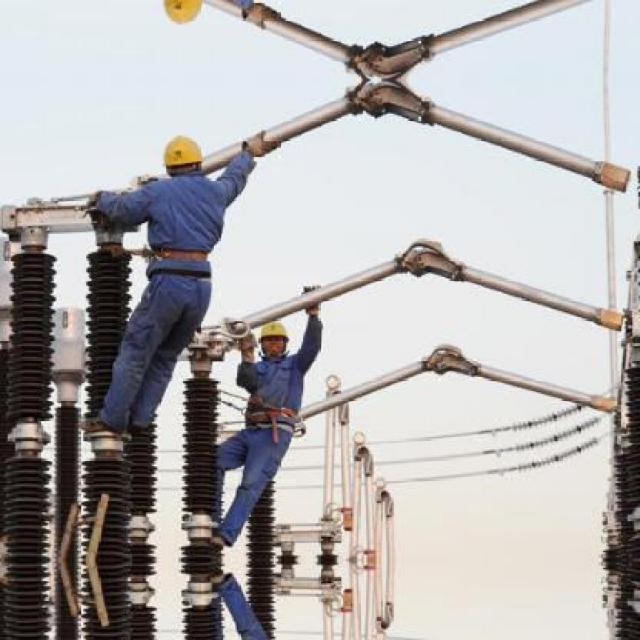hat: (165, 135, 204, 171), (258, 320, 293, 346)
